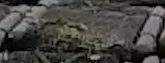bag: (6, 1, 165, 52)
